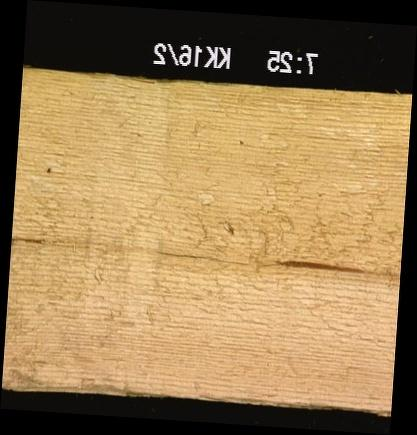split: (157, 239, 255, 273)
